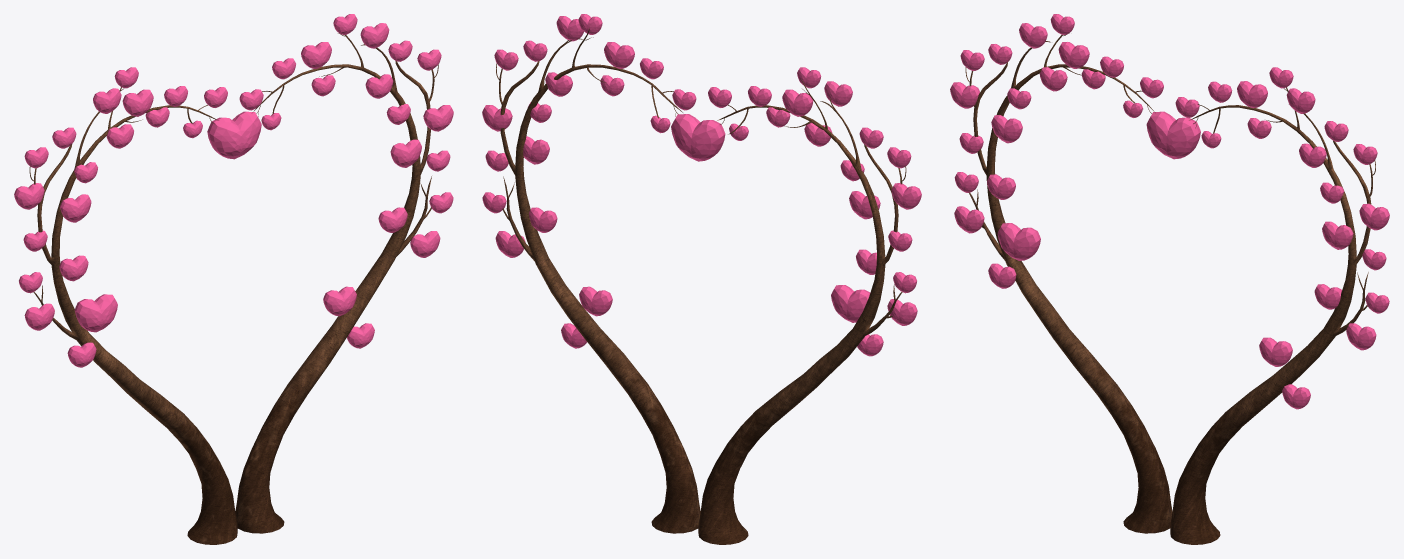
File: hearttree.fbx
3 views of the same model, side by side, from view 1: azimuth 30°, elevation 25°; view 2: azimuth 150°, elevation 25°; view 3: azimuth 330°, elevation 25° (orthographic).
Visible parts, largest first — view 1: hearttree; view 2: hearttree; view 3: hearttree.
Part boxes in pixels (x1=…): hearttree: x1=14, y1=14, x2=453, y2=544; hearttree: x1=482, y1=14, x2=921, y2=544; hearttree: x1=950, y1=14, x2=1389, y2=544.
Size of the model in its own units: 77.22 by 82.08 by 7.73.
